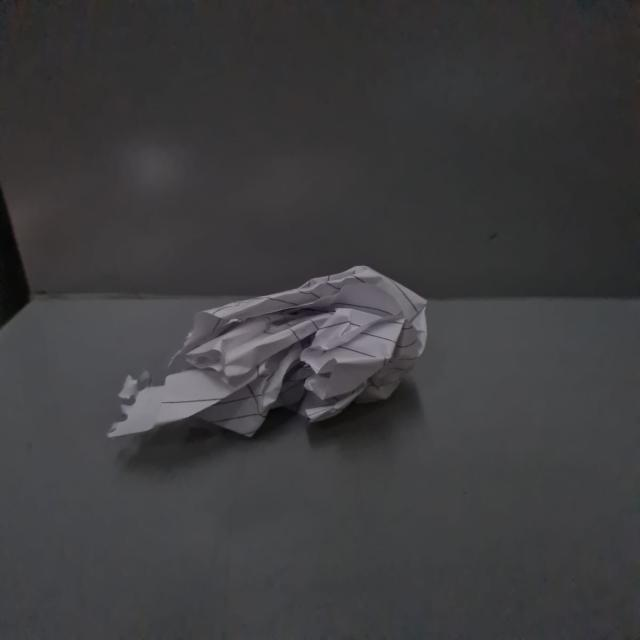Paper: (104, 261, 422, 441)
